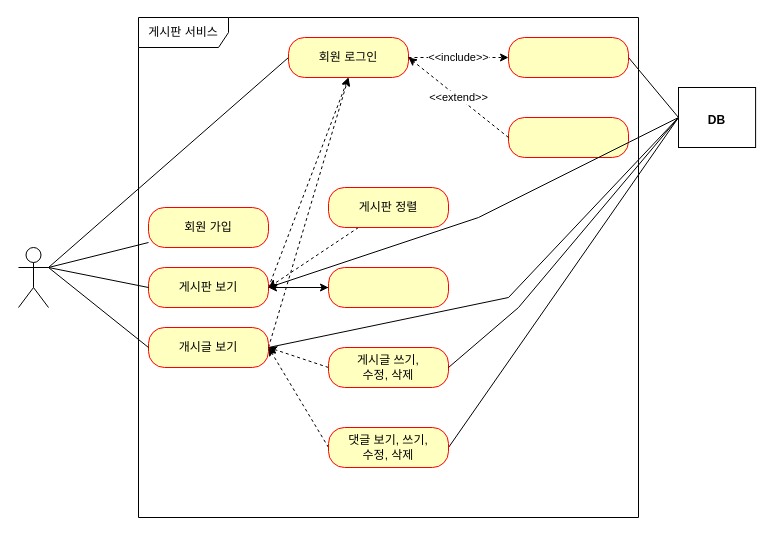
This 774x535 diagram has some shape labels left out. The shapes that lost their labels are listed below. From the top down, each one's box as (x1, y1, x2, y2) in pixels, then its label:
(508, 36, 628, 78): 인증
(508, 116, 628, 158): 로그인 실패
(18, 246, 48, 308): 이용자
(328, 266, 448, 308): 게시판 검색
